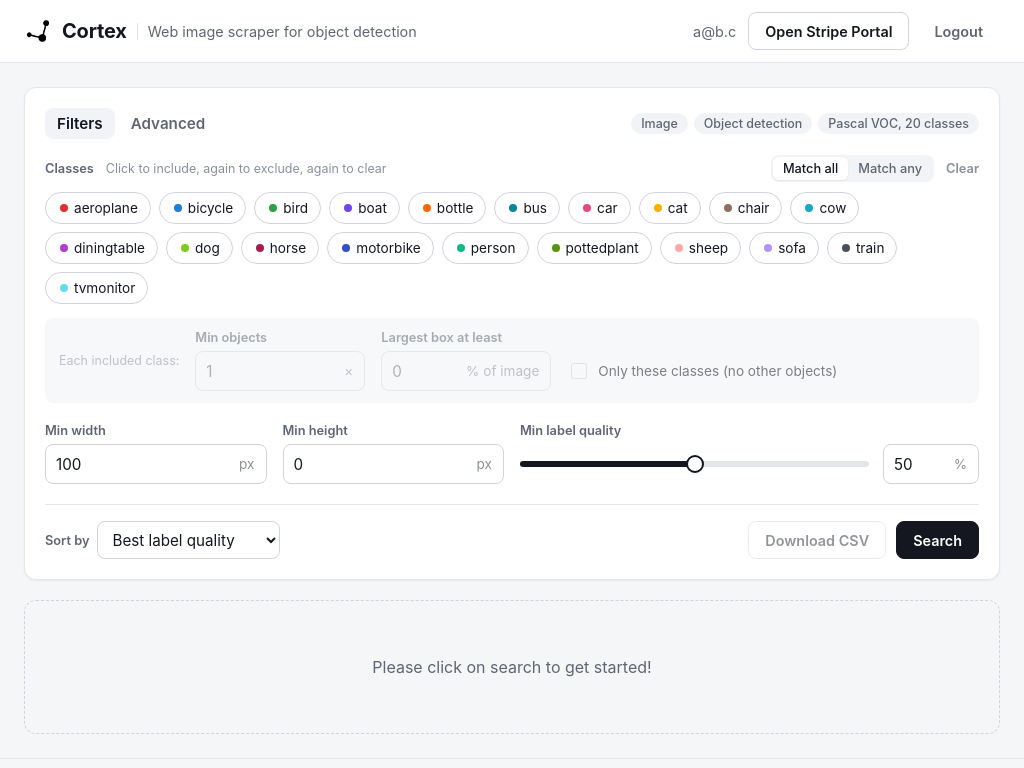
Scenario: access and subscription › a failed portal request closes the new tab and shows the error
Expected: the text "a@b.c" is shown, [693, 22, 736, 40]
Click the button "Open Stripe Portal" at (829, 31), box [748, 12, 909, 50]
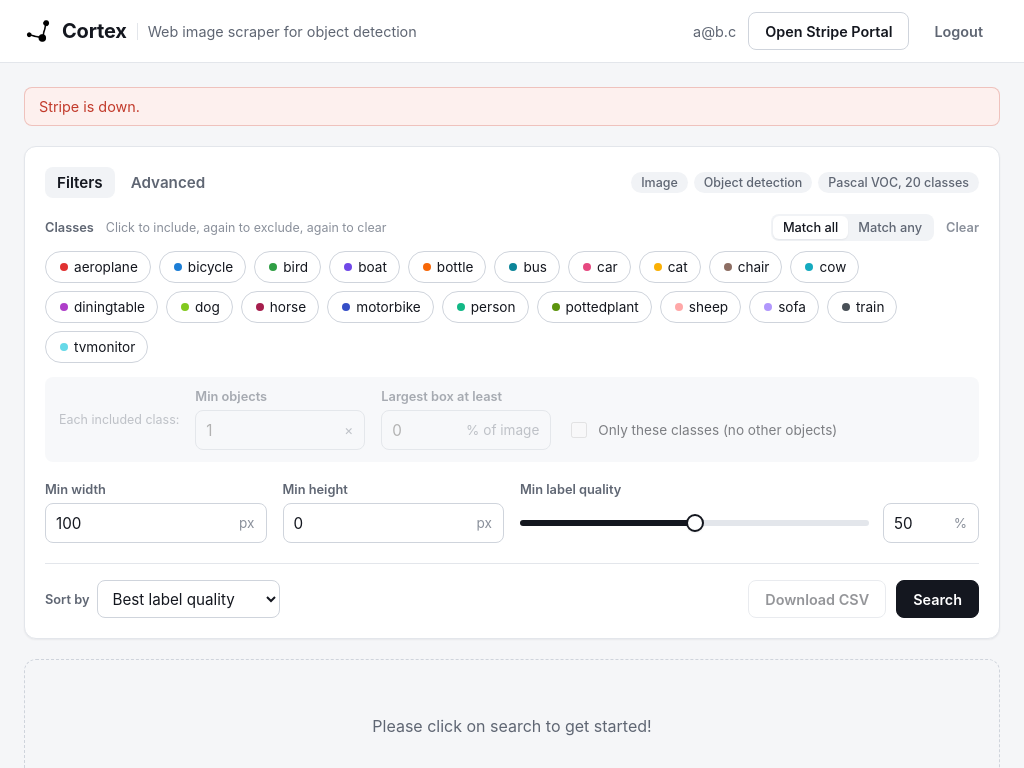
Result: the message reads "Stripe is down." at [39, 98, 140, 115]
